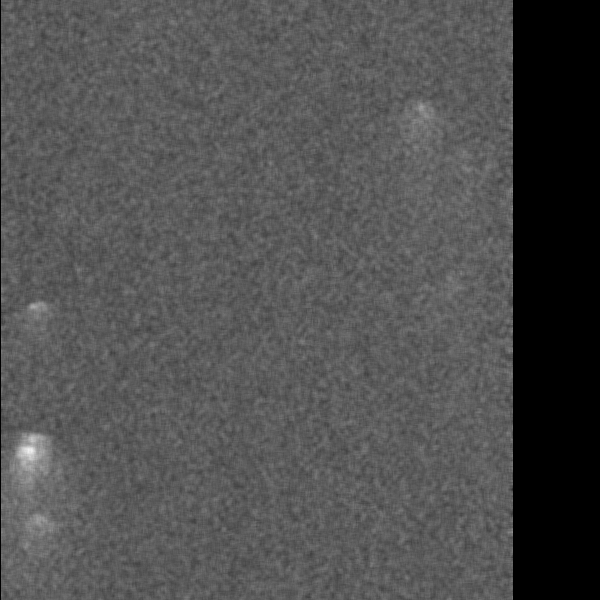spark: (11, 431, 49, 503), (15, 509, 59, 536), (409, 96, 432, 146), (22, 300, 49, 323)
